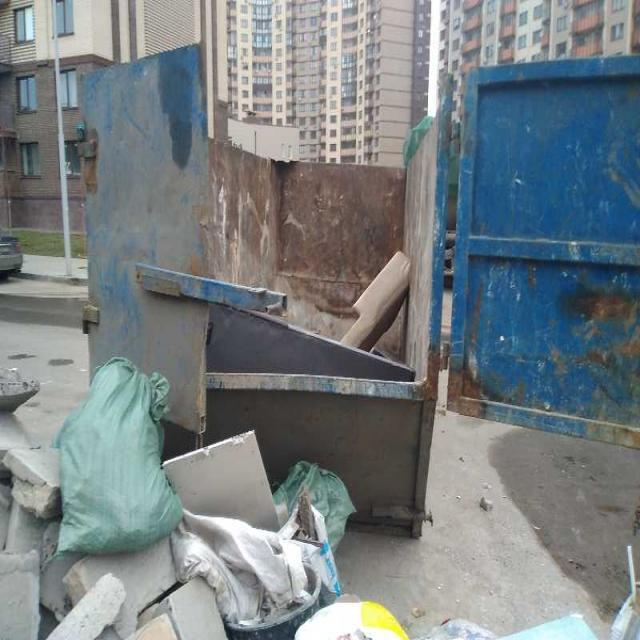Dumpster: (84, 44, 640, 536)
